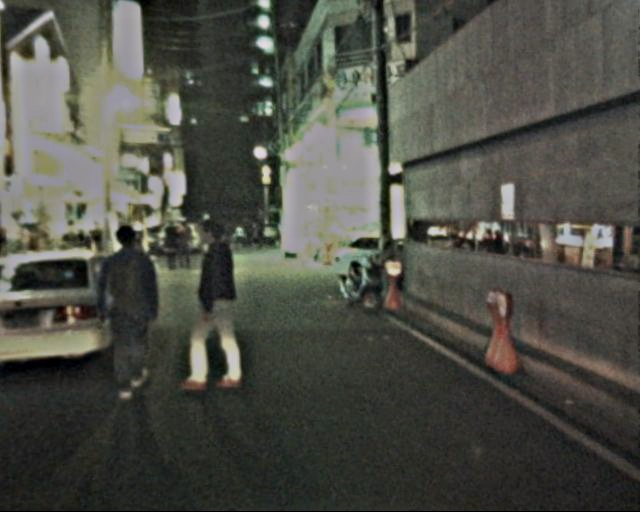person: (90, 219, 171, 402), (180, 220, 251, 396), (160, 219, 183, 270), (232, 221, 267, 254), (176, 218, 197, 269)
